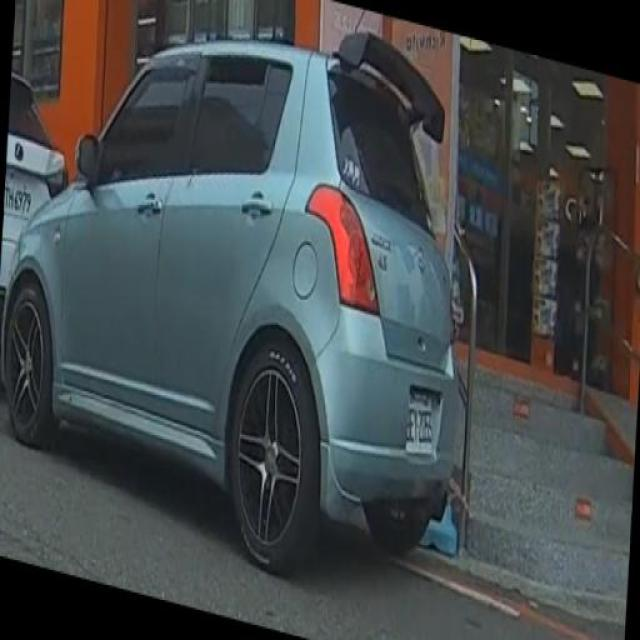Legalparking: (3, 42, 546, 583)
